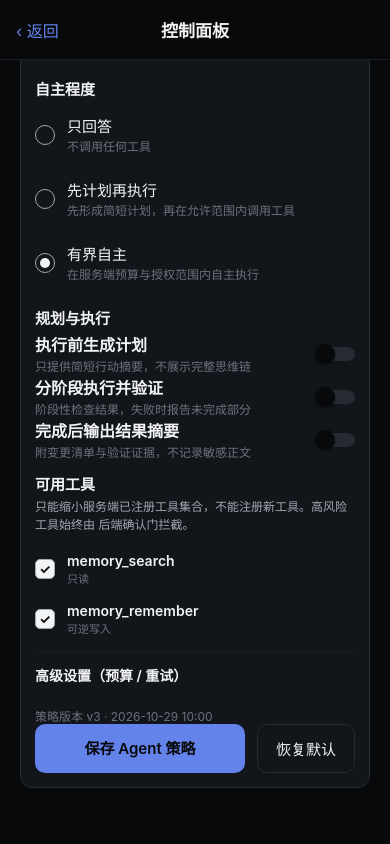
Test: Agent 工作方式分区 › 恢复默认使用服务端 reset，不在前端假装重置
(page scrolled)
Expected: the text "只回答" is shown, [67,117,112,136]
Click the text "恢复默认".
click(306, 748)  # box [276,738,336,759]
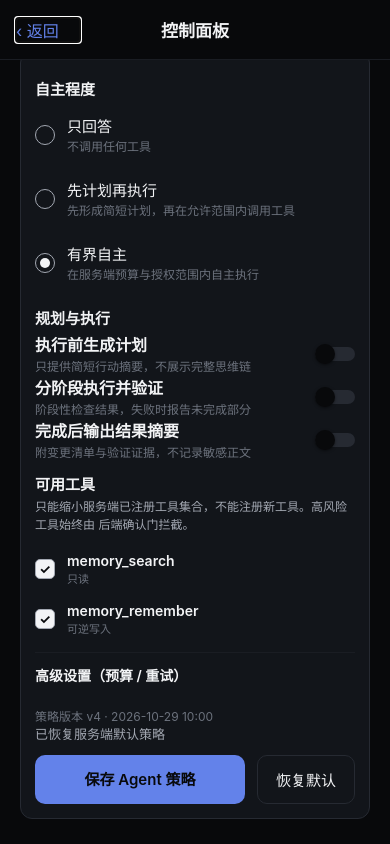
Now the text "已恢复服务端默认策略" is shown, box [35,726,165,742]
